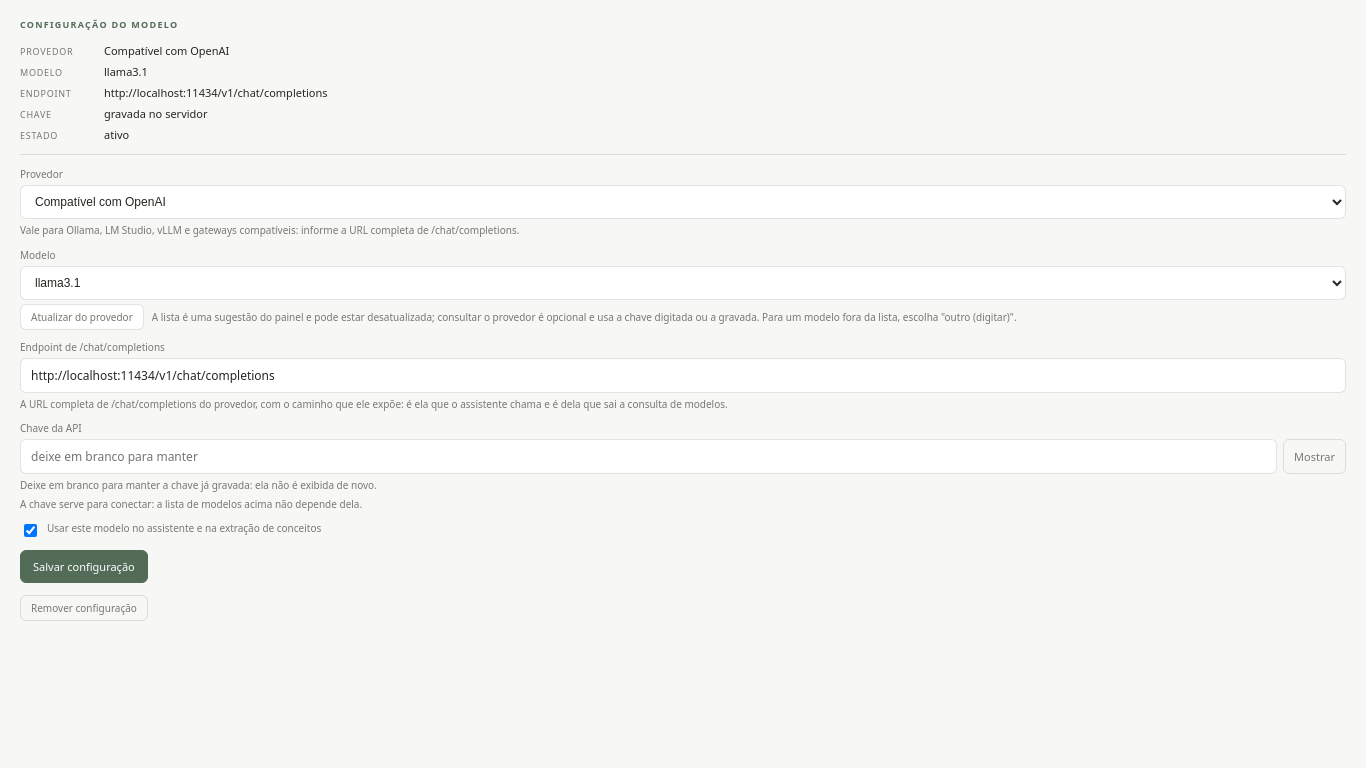
Test: AIModelPanel › keeps the saved model when coming back to its own provider
Select "Anthropic" in the dropdown named "Provedor do modelo" at (683, 202), box [20,185,1346,219]
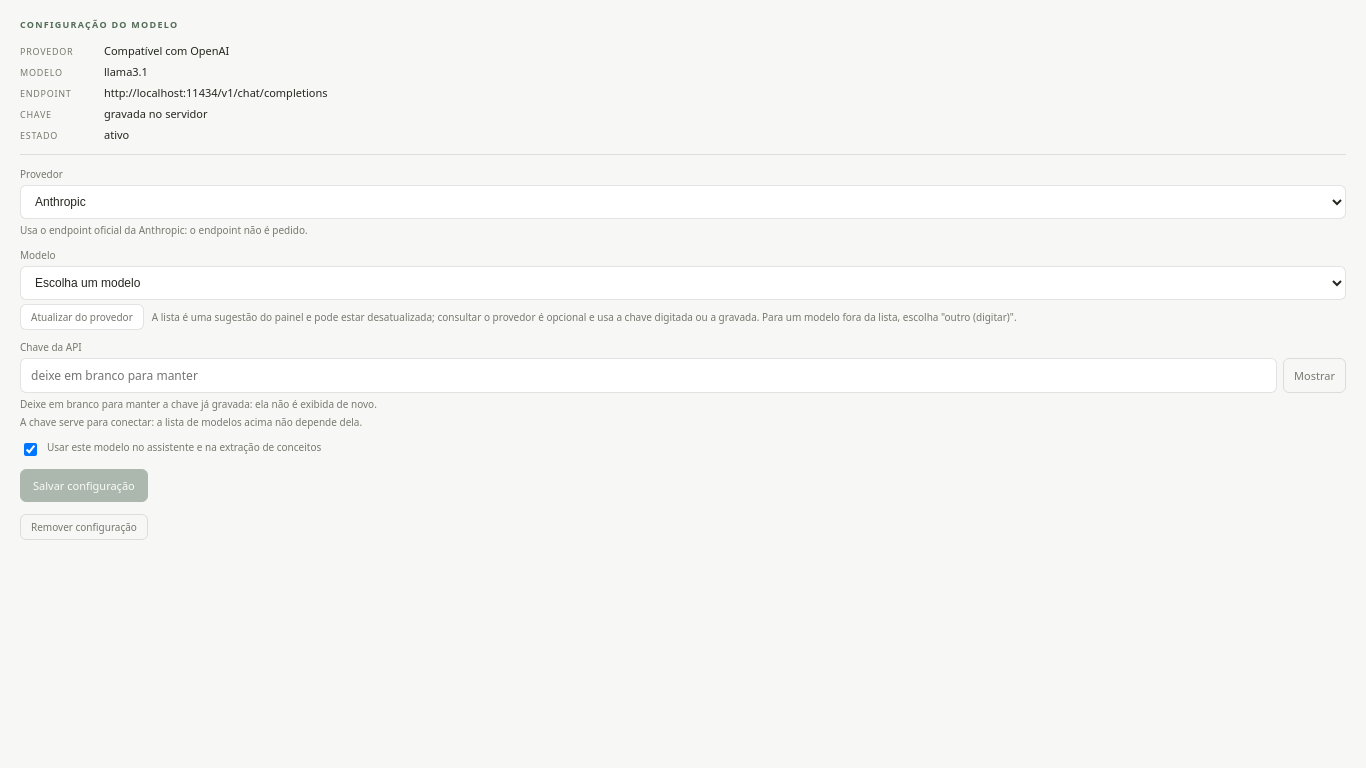
Now the dropdown labelled "Modelo" shows "Escolha um modelo", box [20,266,1346,300]
# Voltar ao provedor da configuração devolve o modelo gravado, mesmo fora do catálogo.
Select "Compatível com OpenAI" in the dropdown named "Provedor do modelo" at (683, 202), box [20,185,1346,219]
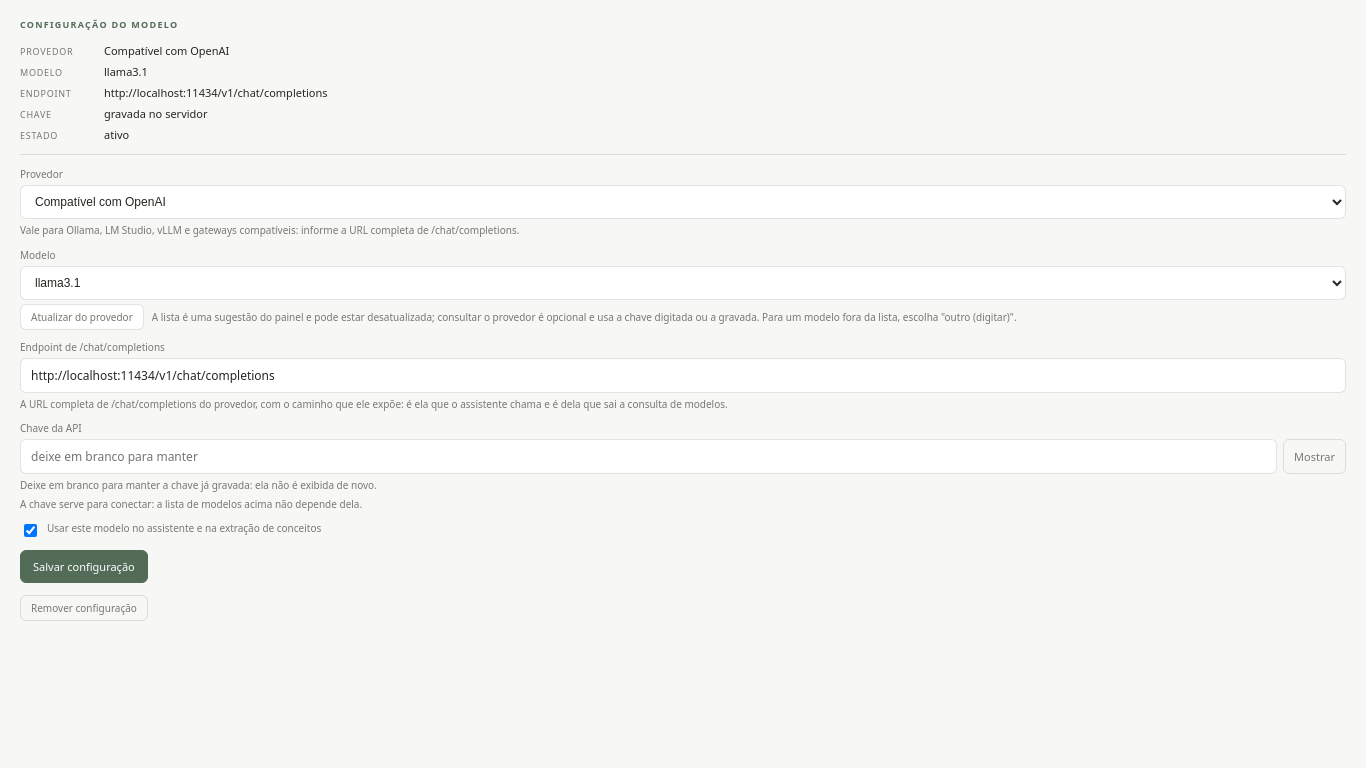
Now the dropdown labelled "Modelo" shows "llama3.1", box [20,266,1346,300]
